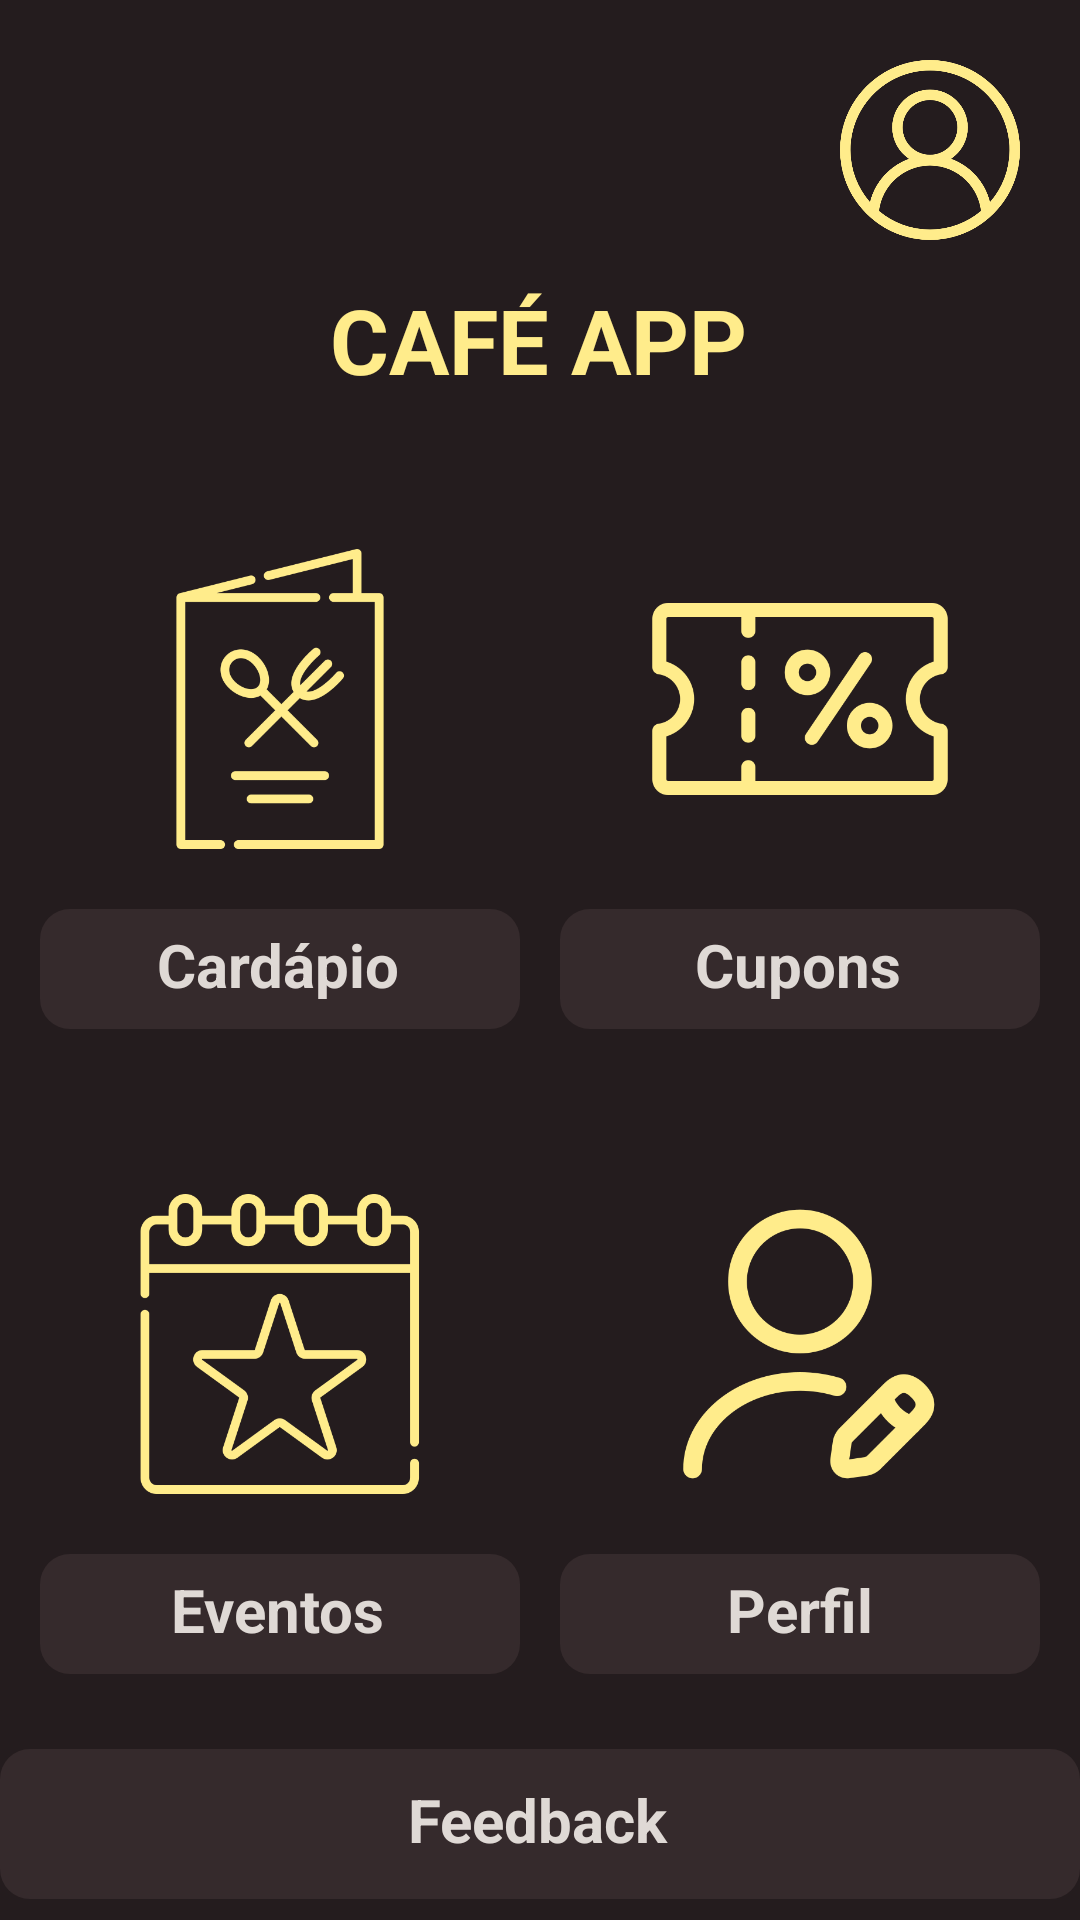

Screen size 1080px x 1920px. Icon name, then its center in pixels as (x,y):
perfil: (930,150)
